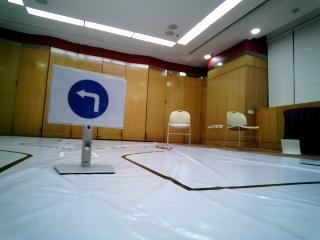left: (53, 70, 120, 125)
